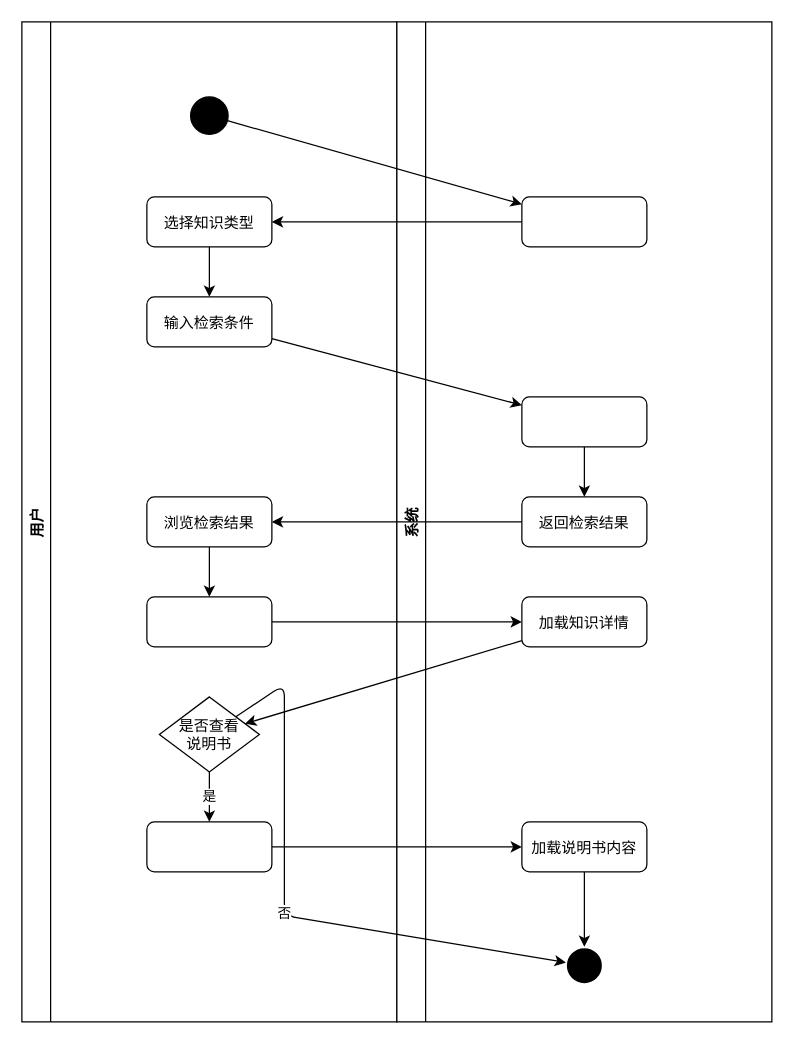
Some shapes in this 794 by 1044 pixel diagram are drawn without their labels. Here are the shapes that lost their labels. From the top down, the box of each, then its label:
(521, 196, 647, 247): 加载知识类型列表
(521, 396, 647, 447): 执行知识检索
(146, 596, 272, 647): 查看知识详情
(146, 821, 272, 872): 查看药品说明书
